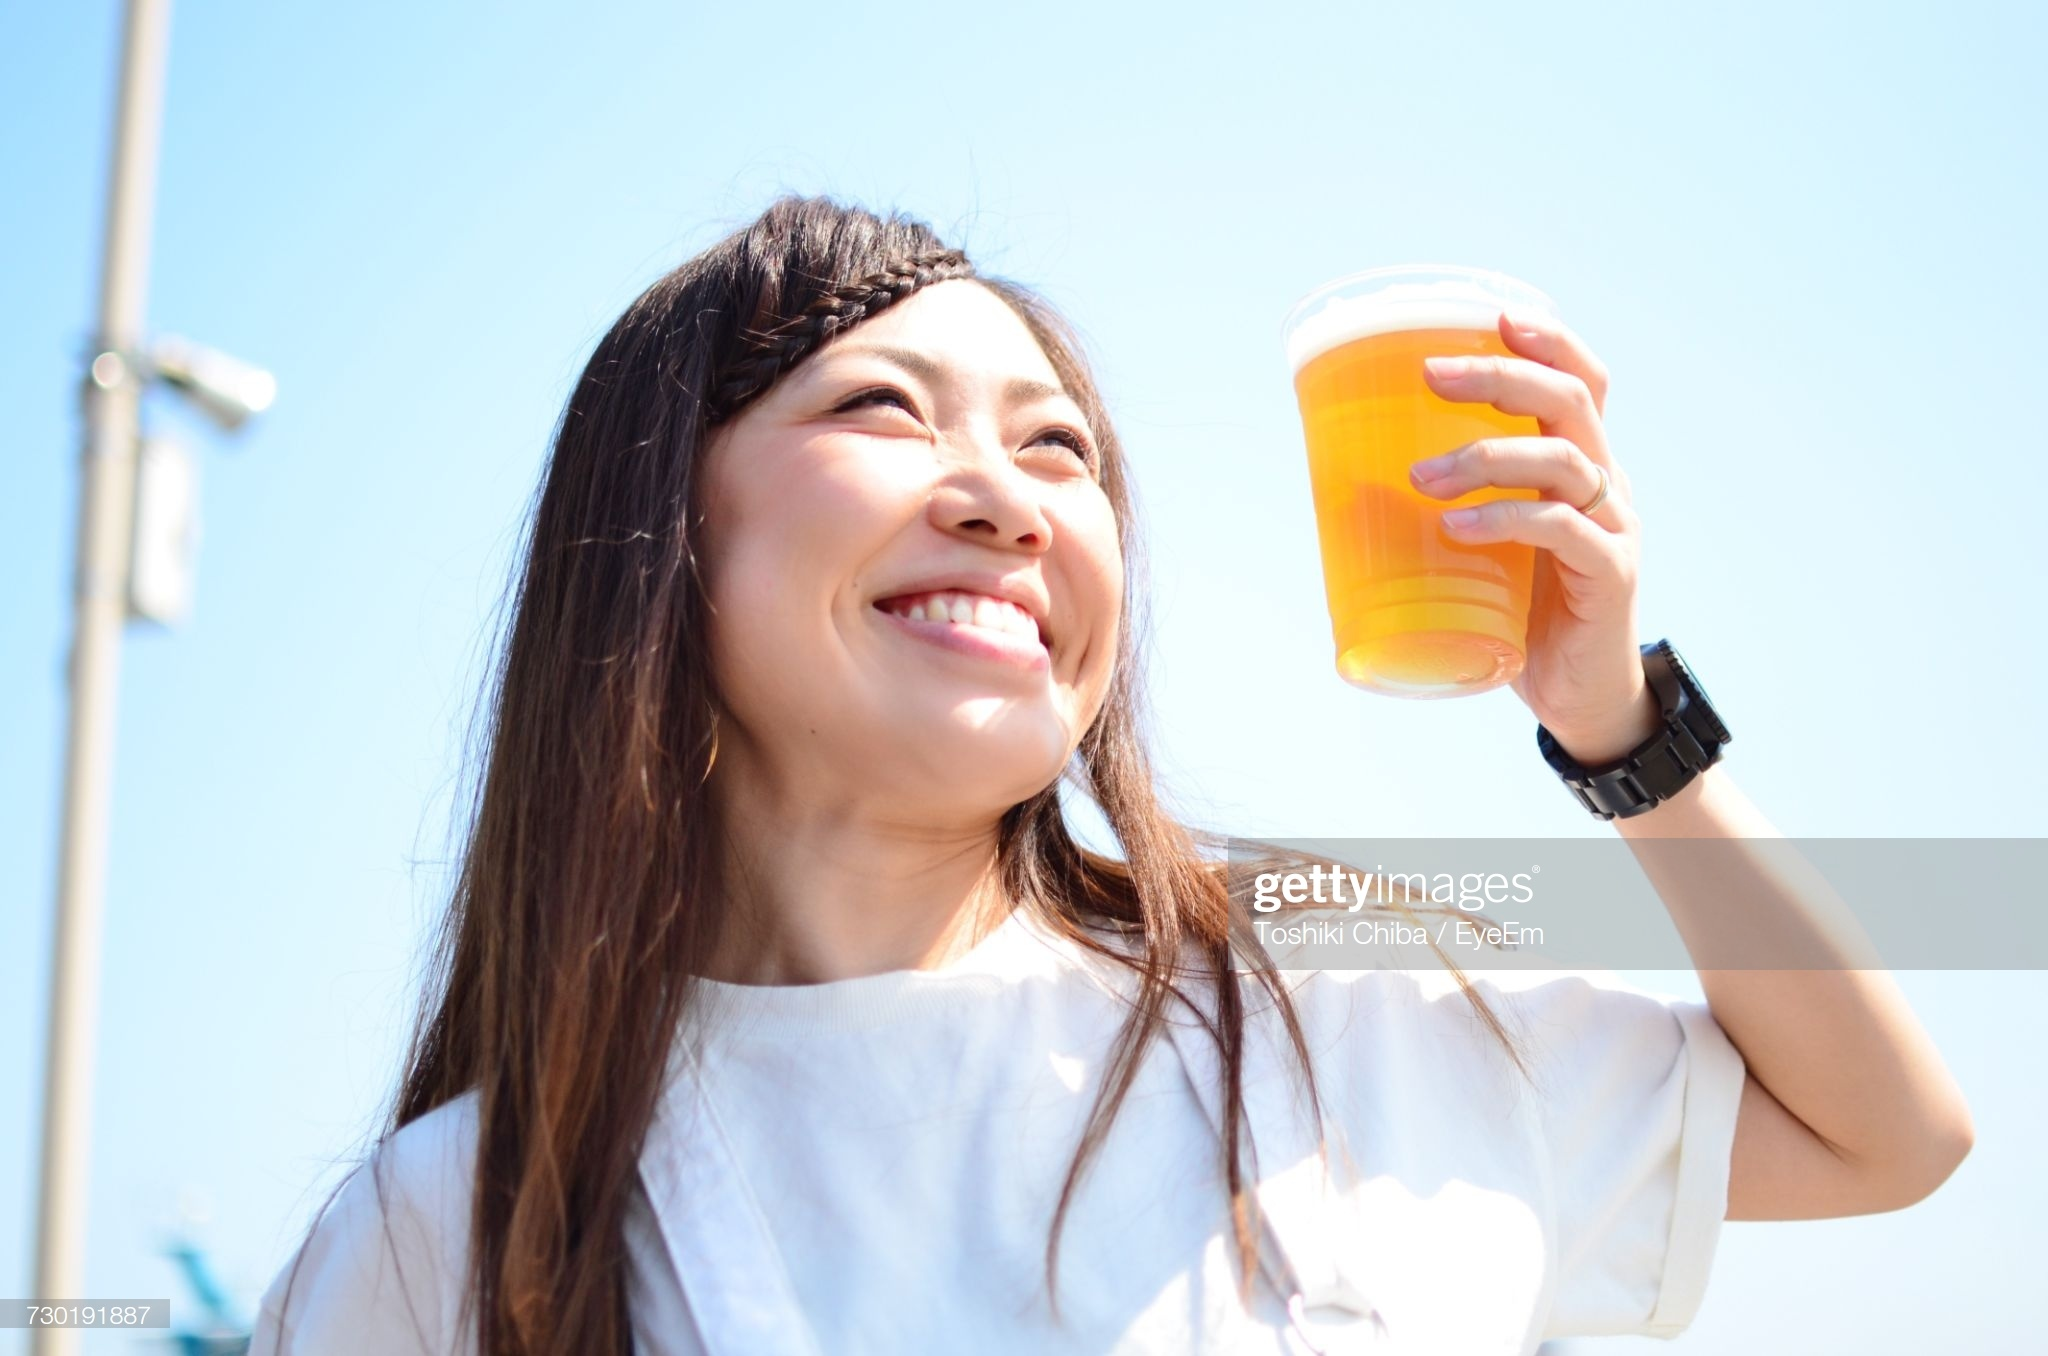glassBeer: (1287, 272, 1578, 707)
